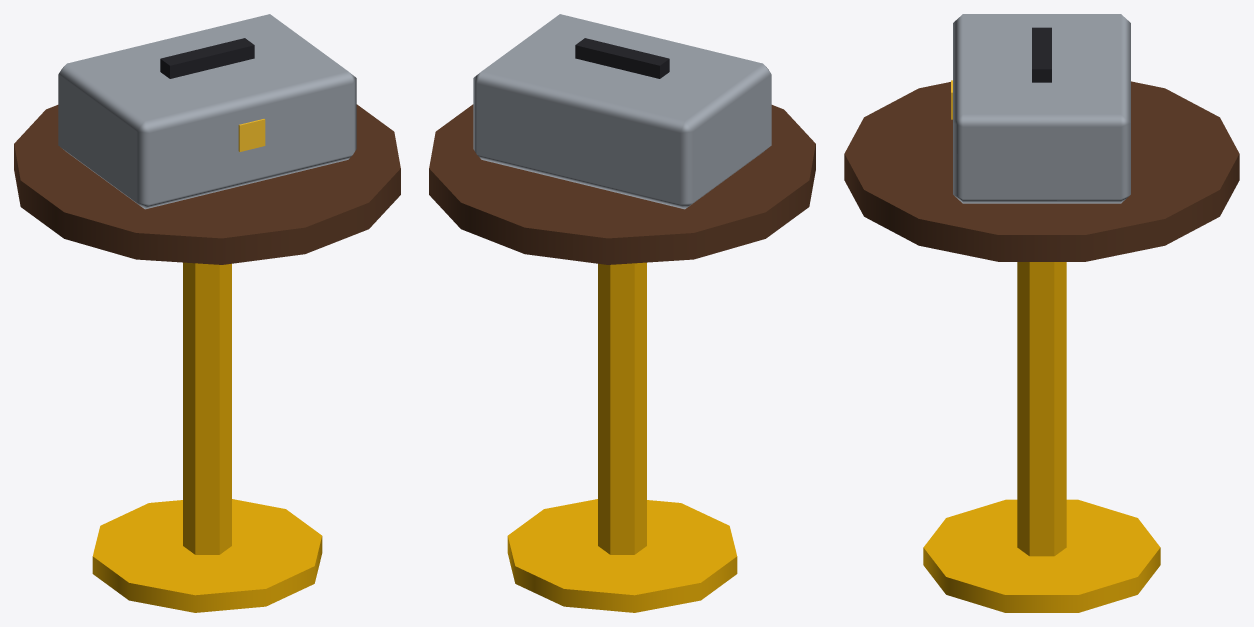
File: station_transport_ausstattung_3_0.glb
3 renders of one model, left to right at view 1: azimuth 30°, elevation 25°; view 2: azimuth 150°, elevation 25°; view 3: azimuth 270°, elevation 25°, orthographic.
Visible parts, largest first — view 1: station_transport_ausstattung_3_0; view 2: station_transport_ausstattung_3_0; view 3: station_transport_ausstattung_3_0.
Part boxes in pixels (left/top/right/bottom): station_transport_ausstattung_3_0: left=14, top=14, right=400, bottom=612; station_transport_ausstattung_3_0: left=429, top=14, right=815, bottom=612; station_transport_ausstattung_3_0: left=844, top=14, right=1239, bottom=612.
Size of the model in its own units: 0.39 by 0.5775 by 0.4.
